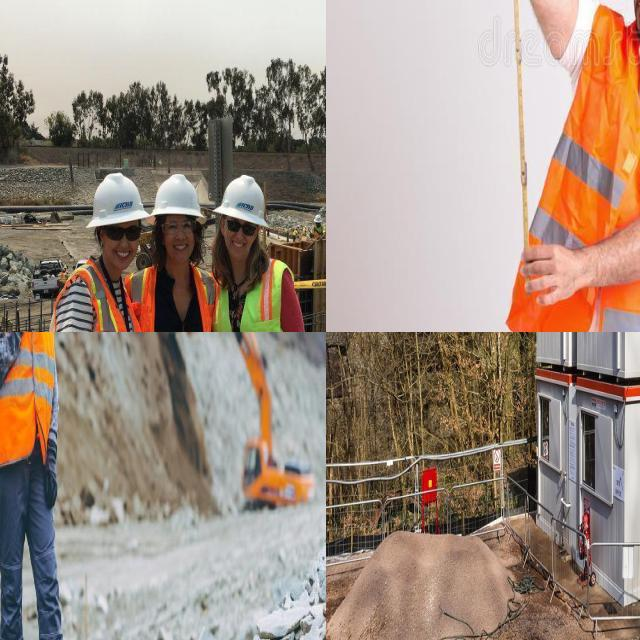face_nomask: (104, 220, 142, 266), (163, 212, 197, 260), (227, 213, 255, 256)
glasses: (160, 214, 199, 238), (104, 223, 142, 246), (222, 218, 258, 240)
hand_glove: (40, 443, 62, 508)
hand_noglove: (513, 231, 587, 316)
head_helmet: (86, 173, 150, 227), (213, 174, 270, 228), (152, 174, 206, 225)
person: (493, 0, 640, 332), (0, 332, 70, 640), (212, 172, 315, 332), (53, 172, 145, 332), (141, 174, 214, 332)
vest: (539, 43, 640, 332), (0, 332, 58, 466), (214, 256, 304, 332), (59, 258, 143, 332), (127, 267, 215, 332)
